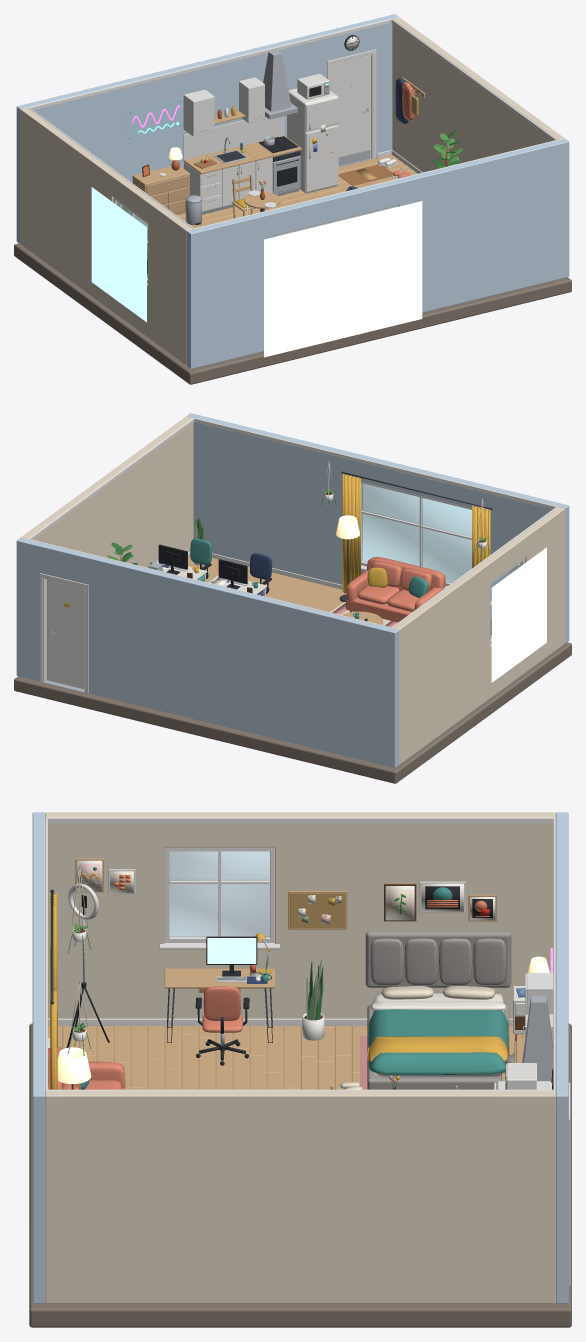
The model's file is tier2.glb.
3 views of the same model, one above another, from view 1: azimuth 30°, elevation 25°; view 2: azimuth 150°, elevation 25°; view 3: azimuth 270°, elevation 25° (orthographic). The views are drawn at different scales.
Visible parts, largest first — view 1: wall_s, decor_s_mesh, wall_n, wall_w, wall_e, decor_n_mesh, slab, kitchen_mesh, decor_w_mesh, fridge_mesh, door_mesh, floor (+9 smaller); view 2: wall_n, wall_s, wall_w, wall_e, decor_s_mesh, slab, decor_w_mesh, door_mesh, couch_mesh, wall_s_trim, floor, staffdesk_1_mesh (+4 smaller); view 3: wall_e, wall_w, bed_mesh, decor_w_mesh, floor, slab, computer_mesh, wall_s, wall_n, wall_w_trim, decor_n_mesh, decor_s_mesh (+9 smaller).
Boxes of the visible parts, x1,y1,x2,y2 form: wall_s: (187,139,569,368); decor_s_mesh: (246,167,422,357); wall_n: (16,14,398,244); wall_w: (20,108,193,365); wall_e: (392,17,564,172); decor_n_mesh: (126,35,359,159); slab: (14,157,571,384); kitchen_mesh: (183,135,301,214); decor_w_mesh: (91,187,147,322); fridge_mesh: (287,73,338,193); door_mesh: (327,49,376,167); floor: (176,154,417,228); wall_n: (16,538,398,767); wall_s: (187,413,569,643); wall_w: (392,507,565,764); wall_e: (21,416,193,567); decor_s_mesh: (320,461,492,593); slab: (14,642,571,783); decor_w_mesh: (490,547,546,682); door_mesh: (39,573,88,693); couch_mesh: (346,556,445,622); wall_s_trim: (194,418,557,589); floor: (188,557,346,612); staffdesk_1_mesh: (208,553,272,596); wall_e: (45,1091,555,1303); wall_w: (45,812,555,1018); bed_mesh: (365,931,511,1089); decor_w_mesh: (75,847,496,949); floor: (48,1026,525,1089); slab: (29,1023,571,1327); computer_mesh: (164,933,274,1065); wall_s: (32,812,45,1303); wall_n: (556,812,568,1303); wall_w_trim: (45,817,555,1025); decor_n_mesh: (522,939,553,1089); decor_s_mesh: (48,865,90,1089).
Size of the model in its own units: 8.16 by 3 by 6.56.
